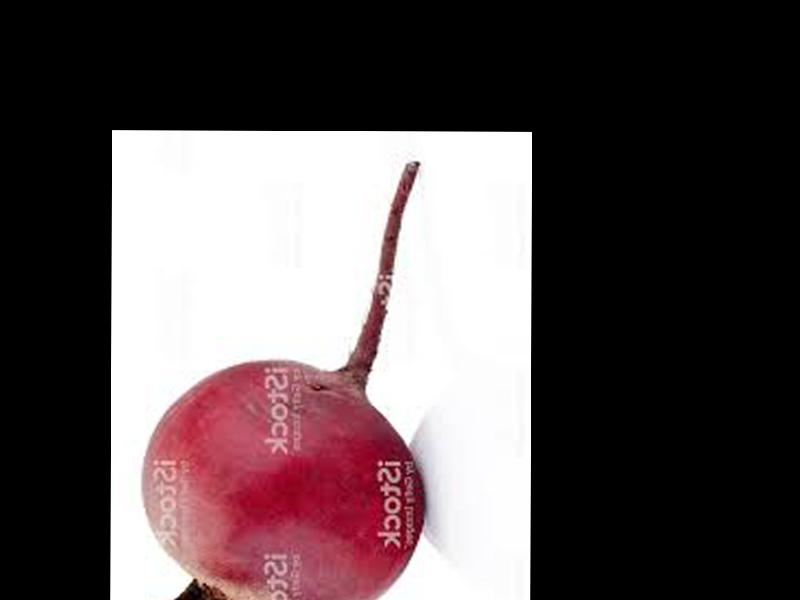Beet: (143, 162, 425, 600)
